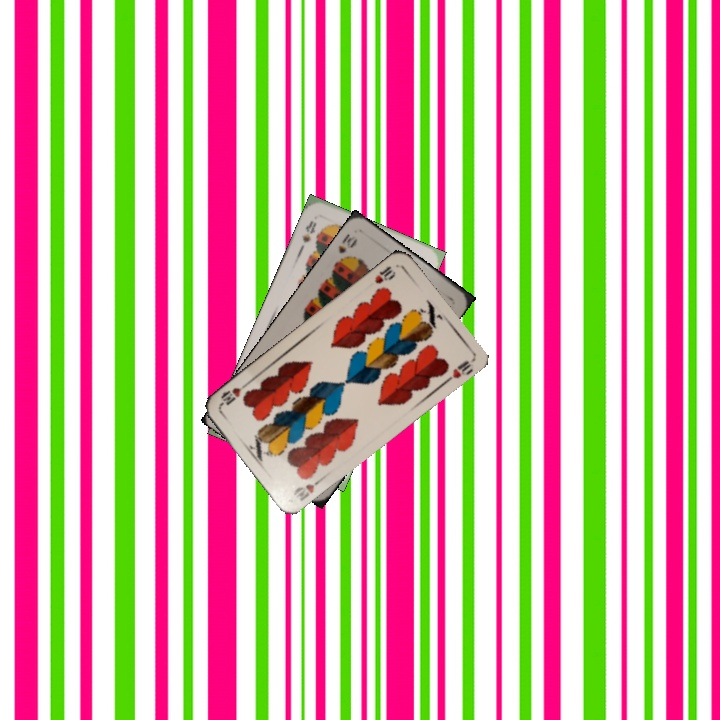H10: (289, 473, 326, 504), (370, 262, 398, 287)
S10: (332, 230, 360, 265)
S8: (298, 217, 319, 246)
